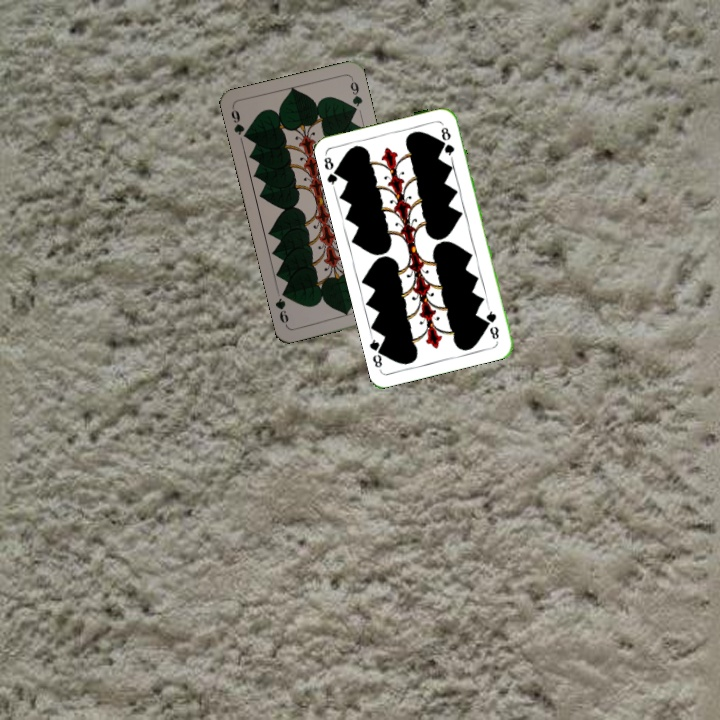G8: (320, 149, 344, 190), (482, 304, 502, 342)
G9: (227, 104, 252, 142)
